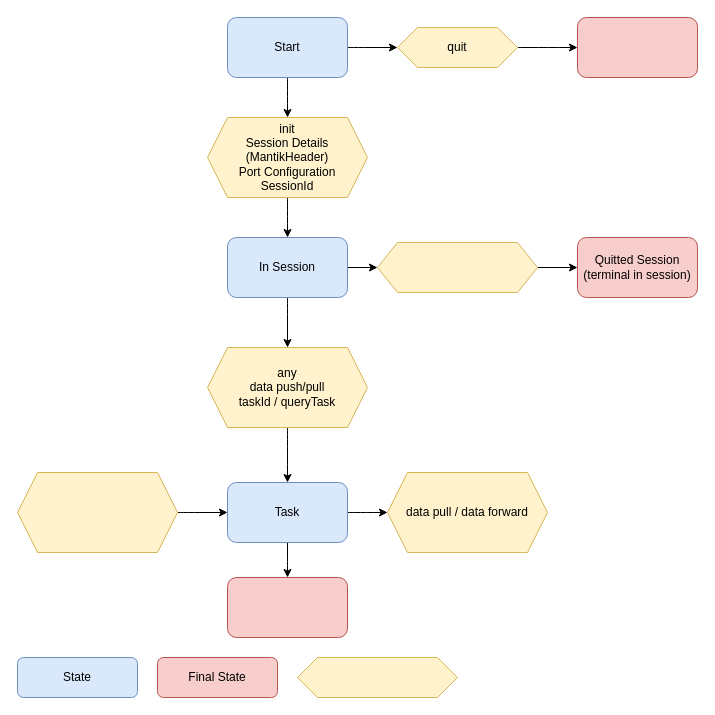
Some shapes in this 715 by 715 pixel diagram are drawn without their labels. The shapes that lost their labels are listed below. From the top down, each one's box as (x1, y1, x2, y2) in pixels, then its label:
(576, 16, 698, 78): Quitted (terminal)
(376, 242, 538, 292): quit task
(16, 472, 178, 552): data push
(226, 576, 348, 638): Task End after processing or on error (terminal in task)
(296, 656, 458, 698): RPC Call
